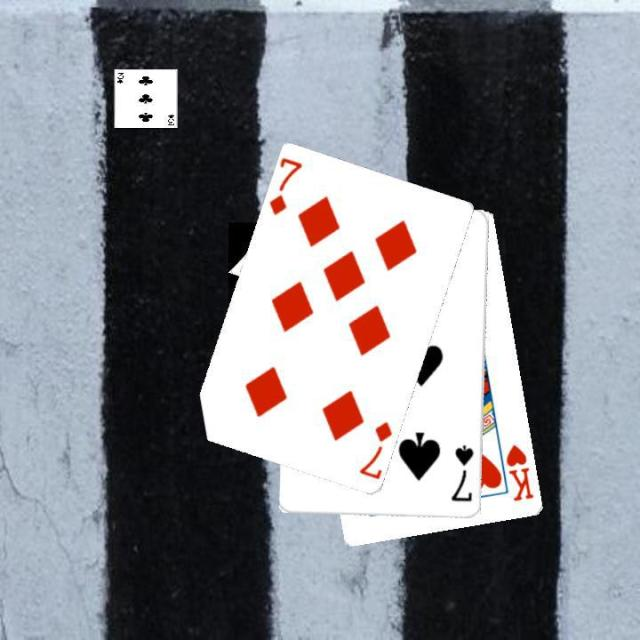7D: (266, 154, 305, 218), (356, 418, 394, 481)
7S: (448, 442, 476, 504)
KH: (502, 441, 536, 503)
